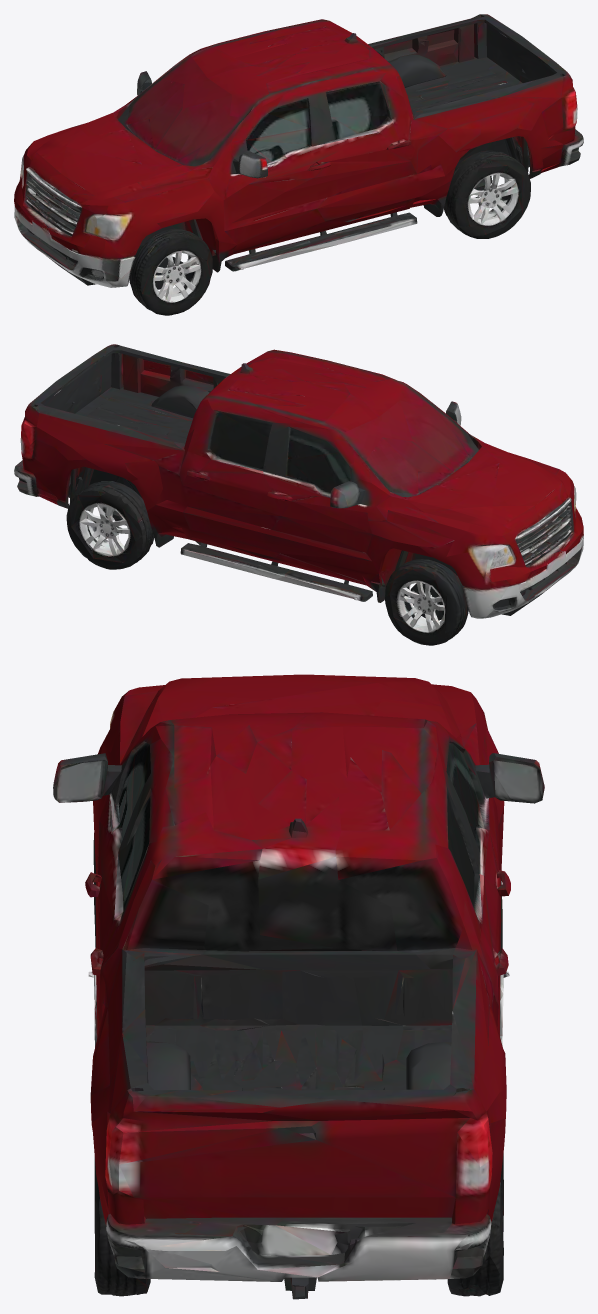
Rendered from truck.glb.
3 views of the same model, one above another, from view 1: azimuth 30°, elevation 25°; view 2: azimuth 150°, elevation 25°; view 3: azimuth 270°, elevation 25° (orthographic). The views are drawn at different scales.
Parts seen in each view (by area): view 1: Mesh_0, wheel_rl_mesh, wheel_fl_mesh; view 2: Mesh_0, wheel_rr_mesh, wheel_fr_mesh; view 3: Mesh_0, wheel_rr_mesh, wheel_rl_mesh.
Boxes of the visible parts, <box> form: Mesh_0: <box>14,14,583,287</box>; wheel_rl_mesh: <box>444,150,530,238</box>; wheel_fl_mesh: <box>129,228,212,315</box>; Mesh_0: <box>14,344,583,618</box>; wheel_rr_mesh: <box>66,481,153,569</box>; wheel_fr_mesh: <box>385,559,468,645</box>; Mesh_0: <box>53,674,544,1299</box>; wheel_rr_mesh: <box>447,1153,503,1296</box>; wheel_rl_mesh: <box>94,1157,150,1296</box>.
Size of the model in its own units: 1.9 by 0.6895 by 0.8039.
Materials: 1 (1 with a texture image).
